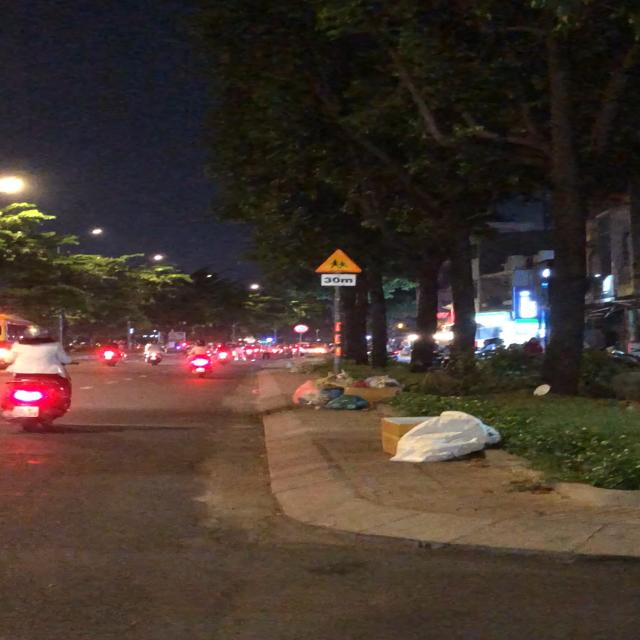Bien bao tre em: (313, 248, 367, 272)
